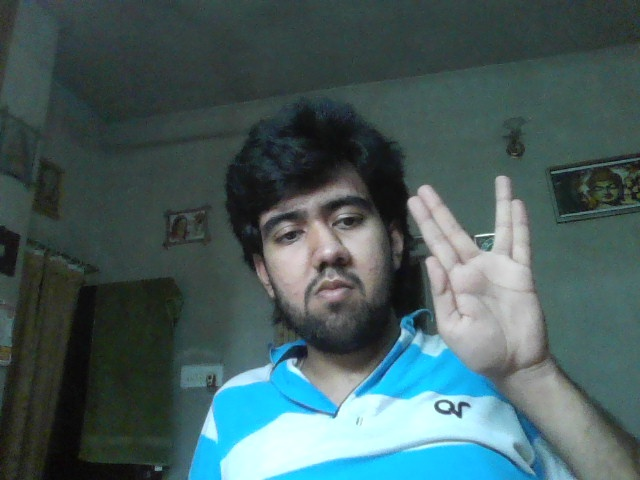LiveLong: (406, 175, 549, 364)
